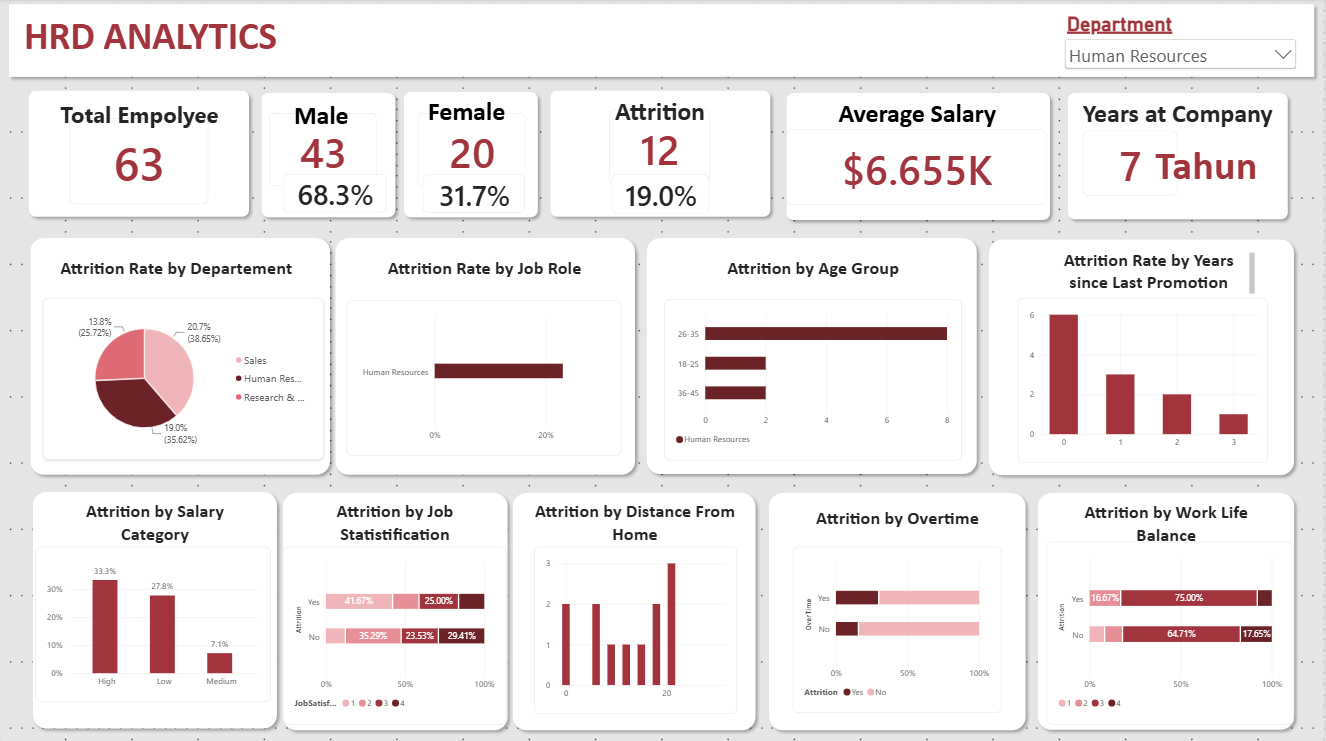

The dashboard page shown, as its layout file describes it:
{"tool":"powerbi","page":{"name":"Overview","canvas":[1920,1080],"ordinal":0},"visuals":[{"type":"shape","box":[1426,340,460,360],"z":0},{"type":"shape","box":[477.4,337.9,452.4,361.2],"z":1000},{"type":"shape","box":[5.4,0,1909.1,123.2],"z":2000},{"type":"textbox","box":[36.2,19.9,402.1,83.3],"z":3000},{"type":"textbox","box":[5.4,201.1,288,150.3],"z":4000},{"type":"shape","box":[35.8,337.9,452.4,361.2],"z":5000},{"type":"shape","box":[372,128,212,198],"z":6000},{"type":"shape","box":[790,125,336.9,201.1],"z":7000},{"type":"shape","box":[1132,128,400,202],"z":8000},{"type":"shape","box":[1540,128,336.9,201.1],"z":9000},{"type":"shape","box":[35,125,336.9,201.1],"z":10000},{"type":"slicer","fields":{"Values":["HR_Analytics.Department"]},"box":[1540,20,345,86.7],"z":11000},{"type":"shape","box":[930,338.3,496.7,360],"z":12000},{"type":"shape","box":[39.3,706.3,371.9,361.2],"z":13000},{"type":"shape","box":[402,708,344,362],"z":14000},{"type":"cardVisual","fields":{"Data":["All Measures.TotalEmp"]},"box":[102,174,202.5,125],"z":15000},{"type":"textbox","box":[83.8,146.2,240,55],"z":16000},{"type":"cardVisual","fields":{"Data":["All Measures.Male"]},"box":[392,166,156.7,106.7],"z":17000},{"type":"cardVisual","fields":{"Data":["All Measures.Attiration"]},"box":[884,162,146,110],"z":18000},{"type":"textbox","box":[790,142,336,54],"z":19000},{"type":"textbox","box":[428,146,91.4,50],"z":20000},{"type":"cardVisual","fields":{"Data":["All Measures.% Male"]},"box":[411.2,255.7,152,55.4],"z":21000},{"type":"shape","box":[578,126,212,200],"z":22000},{"type":"cardVisual","fields":{"Data":["All Measures.Female"]},"box":[606,166,156.7,106.7],"z":23000},{"type":"cardVisual","fields":{"Data":["All Measures.% Female"]},"box":[614,256,148,56],"z":24000},{"type":"textbox","box":[622,142,124,50],"z":25000},{"type":"cardVisual","fields":{"Data":["All Measures.% Attrition"]},"box":[887.5,255,142.5,57.5],"z":26000},{"type":"cardVisual","fields":{"Data":["All Measures.Average Salary"]},"box":[1142,190,377.5,110],"z":27000},{"type":"cardVisual","fields":{"Data":["All Measures.Average Tenure"]},"box":[1570,192,137.5,95],"z":28000},{"type":"textbox","box":[1676,206,172.5,75],"z":29000},{"type":"textbox","box":[1214,144,234,62],"z":30000},{"type":"textbox","box":[1570,144,300,46],"z":31000},{"type":"pieChart","fields":{"Category":["HR_Analytics.Department"],"Y":["All Measures.% Attrition"]},"box":[62.6,434.5,407.1,234.3],"z":32000},{"type":"barChart","fields":{"Category":["HR_Analytics.AgeGroup"],"Series":["HR_Analytics.Department"],"Y":["All Measures.Attiration"]},"box":[963.3,436.7,431.2,233.8],"z":33000},{"type":"barChart","fields":{"Category":["HR_Analytics.JobRole"],"Y":["All Measures.% Attrition"]},"box":[504.4,438.9,398.3,225],"z":34000},{"type":"clusteredColumnChart","fields":{"Category":["HR_Analytics.YearsAtCompany (bins)"],"Y":["All Measures.TotalEmp"]},"box":[1475.5,434.5,362.7,239.1],"z":35000},{"type":"clusteredColumnChart","fields":{"Category":["HR_Analytics.SalaryCategory"],"Y":["All Measures.% Attrition"]},"box":[52,796,341.2,225],"z":36000},{"type":"shape","box":[736,708,370,362],"z":37000},{"type":"clusteredColumnChart","fields":{"Category":["HR_Analytics.DistanceFromHome (bins)"],"Y":["All Measures.Attiration"]},"box":[775.6,795.6,294.4,242.2],"z":38000},{"type":"shape","box":[1106,708,390,362],"z":39000},{"type":"shape","box":[1496,708,389.8,361.2],"z":40000},{"type":"clusteredColumnChart","fields":{"Category":["HR_Analytics.Department"],"Series":["HR_Analytics.JobSatisfaction (bins)"],"Y":["All Measures.Attiration"]},"box":[424.4,795.6,300,240],"z":41000},{"type":"hundredPercentStackedBarChart","fields":{"Category":["HR_Analytics.OverTime"],"Series":["HR_Analytics.Attrition"],"Y":["All Measures.TotalEmp"]},"box":[1150,795.6,302.2,241.1],"z":42000},{"type":"clusteredColumnChart","fields":{"Category":["HR_Analytics.Department"],"Series":["HR_Analytics.WorkLifeBalance (bins)"],"Y":["All Measures.Attiration"]},"box":[1538,810,300,226],"z":43000},{"type":"textbox","box":[88.9,374.4,380,37.8],"z":44000},{"type":"textbox","box":[563.3,374.4,300,44.4],"z":45000},{"type":"textbox","box":[990,374.4,377.8,45.6],"z":46000},{"type":"textbox","box":[1520,365.6,300,62.2],"z":47000},{"type":"textbox","box":[75.6,726.7,300,68.9],"z":48000},{"type":"textbox","box":[424.4,726.7,300,68.9],"z":49000},{"type":"textbox","box":[1152.2,736.7,300,50],"z":50000},{"type":"textbox","box":[771.1,726.7,300,68.9],"z":51000},{"type":"textbox","box":[1541.1,727.8,300,68.9],"z":52000}]}

Visuals, with their boxes in screenshot pixels (x1, y1, x2, y2), scaled from the page's 1920x1080 canvas onto the 1326x741 screenshot:
shape: BBox(985, 233, 1303, 480)
shape: BBox(330, 232, 642, 480)
shape: BBox(4, 0, 1322, 85)
textbox: BBox(25, 14, 303, 71)
textbox: BBox(4, 138, 203, 241)
shape: BBox(25, 232, 337, 480)
shape: BBox(257, 88, 403, 224)
shape: BBox(546, 86, 778, 224)
shape: BBox(782, 88, 1058, 226)
shape: BBox(1064, 88, 1296, 226)
shape: BBox(24, 86, 257, 224)
slicer - HR_Analytics.Department: BBox(1064, 14, 1302, 73)
shape: BBox(642, 232, 985, 479)
shape: BBox(27, 485, 284, 732)
shape: BBox(278, 486, 515, 734)
cardVisual - All Measures.TotalEmp: BBox(70, 119, 210, 205)
textbox: BBox(58, 100, 224, 138)
cardVisual - All Measures.Male: BBox(271, 114, 379, 187)
cardVisual - All Measures.Attiration: BBox(611, 111, 711, 187)
textbox: BBox(546, 97, 778, 134)
textbox: BBox(296, 100, 359, 134)
cardVisual - All Measures.% Male: BBox(284, 175, 389, 213)
shape: BBox(399, 86, 546, 224)
cardVisual - All Measures.Female: BBox(419, 114, 527, 187)
cardVisual - All Measures.% Female: BBox(424, 176, 526, 214)
textbox: BBox(430, 97, 515, 132)
cardVisual - All Measures.% Attrition: BBox(613, 175, 711, 214)
cardVisual - All Measures.Average Salary: BBox(789, 130, 1049, 206)
cardVisual - All Measures.Average Tenure: BBox(1084, 132, 1179, 197)
textbox: BBox(1157, 141, 1277, 193)
textbox: BBox(838, 99, 1000, 141)
textbox: BBox(1084, 99, 1291, 130)
pieChart - HR_Analytics.Department x All Measures.% Attrition: BBox(43, 298, 324, 459)
barChart - HR_Analytics.AgeGroup x HR_Analytics.Department: BBox(665, 300, 963, 460)
barChart - HR_Analytics.JobRole x All Measures.% Attrition: BBox(348, 301, 623, 456)
clusteredColumnChart - HR_Analytics.YearsAtCompany (bins) x All Measures.TotalEmp: BBox(1019, 298, 1270, 462)
clusteredColumnChart - HR_Analytics.SalaryCategory x All Measures.% Attrition: BBox(36, 546, 272, 701)
shape: BBox(508, 486, 764, 734)
clusteredColumnChart - HR_Analytics.DistanceFromHome (bins) x All Measures.Attiration: BBox(536, 546, 739, 712)
shape: BBox(764, 486, 1033, 734)
shape: BBox(1033, 486, 1302, 734)
clusteredColumnChart - HR_Analytics.Department x HR_Analytics.JobSatisfaction (bins): BBox(293, 546, 500, 711)
hundredPercentStackedBarChart - HR_Analytics.OverTime x HR_Analytics.Attrition: BBox(794, 546, 1003, 711)
clusteredColumnChart - HR_Analytics.Department x HR_Analytics.WorkLifeBalance (bins): BBox(1062, 556, 1269, 711)
textbox: BBox(61, 257, 324, 283)
textbox: BBox(389, 257, 596, 287)
textbox: BBox(684, 257, 945, 288)
textbox: BBox(1050, 251, 1257, 294)
textbox: BBox(52, 499, 259, 546)
textbox: BBox(293, 499, 500, 546)
textbox: BBox(796, 505, 1003, 540)
textbox: BBox(533, 499, 740, 546)
textbox: BBox(1064, 499, 1272, 547)
